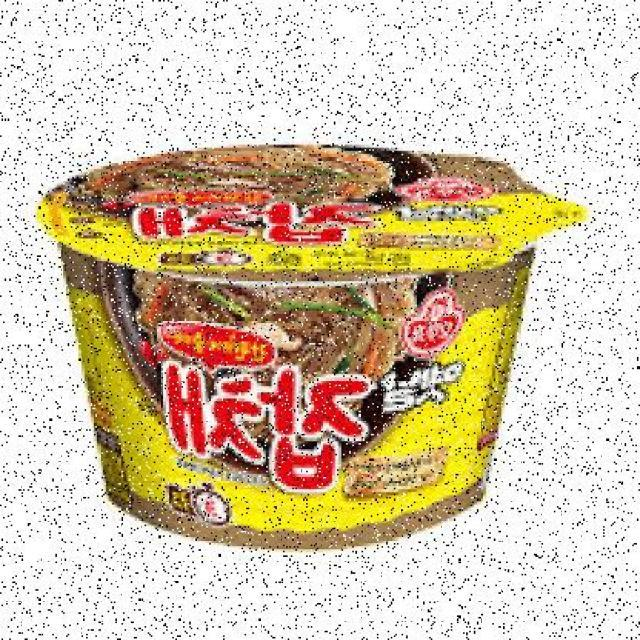Miscellaneous: (44, 148, 524, 554)
